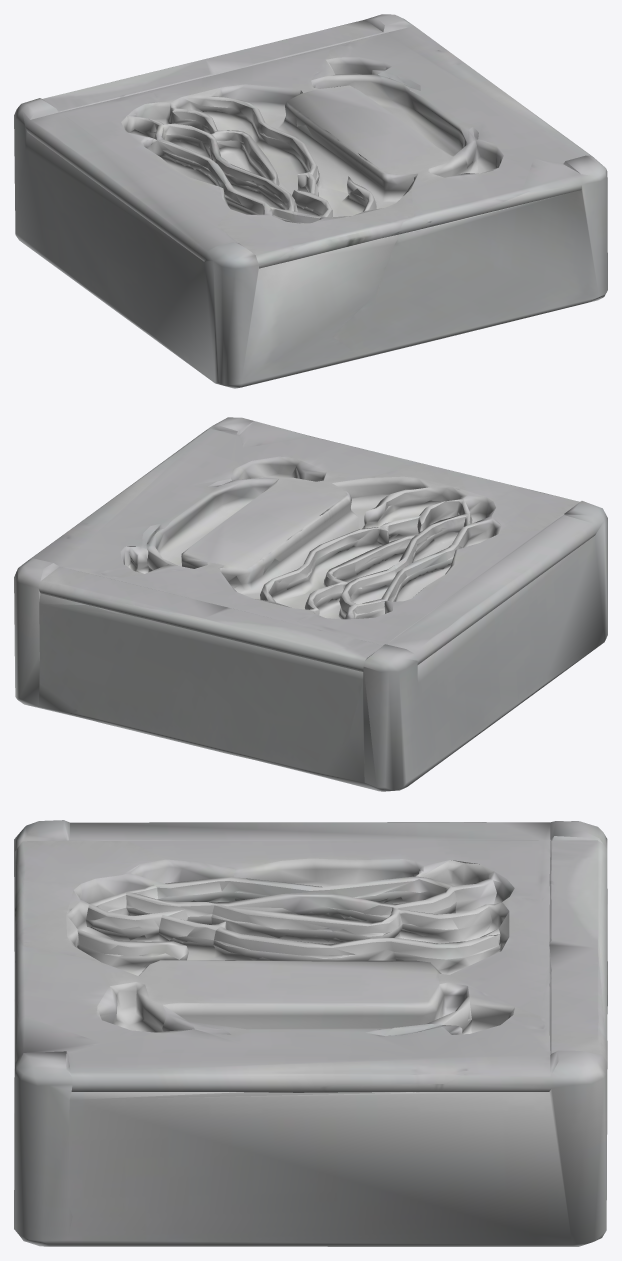
Rendered from m2ArenaWall.glb.
3 renders of one model, top to bottom at view 1: azimuth 30°, elevation 25°; view 2: azimuth 150°, elevation 25°; view 3: azimuth 270°, elevation 25°, orthographic. The views are drawn at different scales.
Parts seen in each view (by area): view 1: model; view 2: model; view 3: model.
Part boxes in pixels (x1,y1,x2,y2): model: (14,14,607,388); model: (14,417,607,791); model: (14,820,607,1246).
Size of the model in its own units: 1.9 by 0.6219 by 1.85.
1 material, 1 textured.
